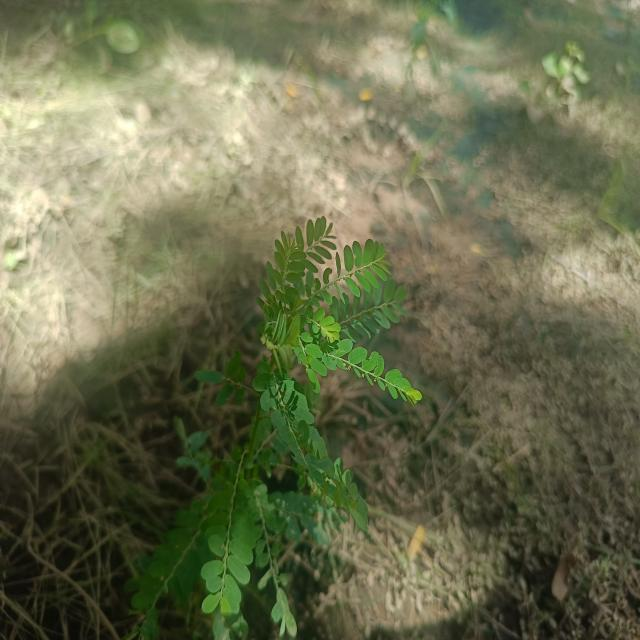weed: (130, 206, 426, 640)
